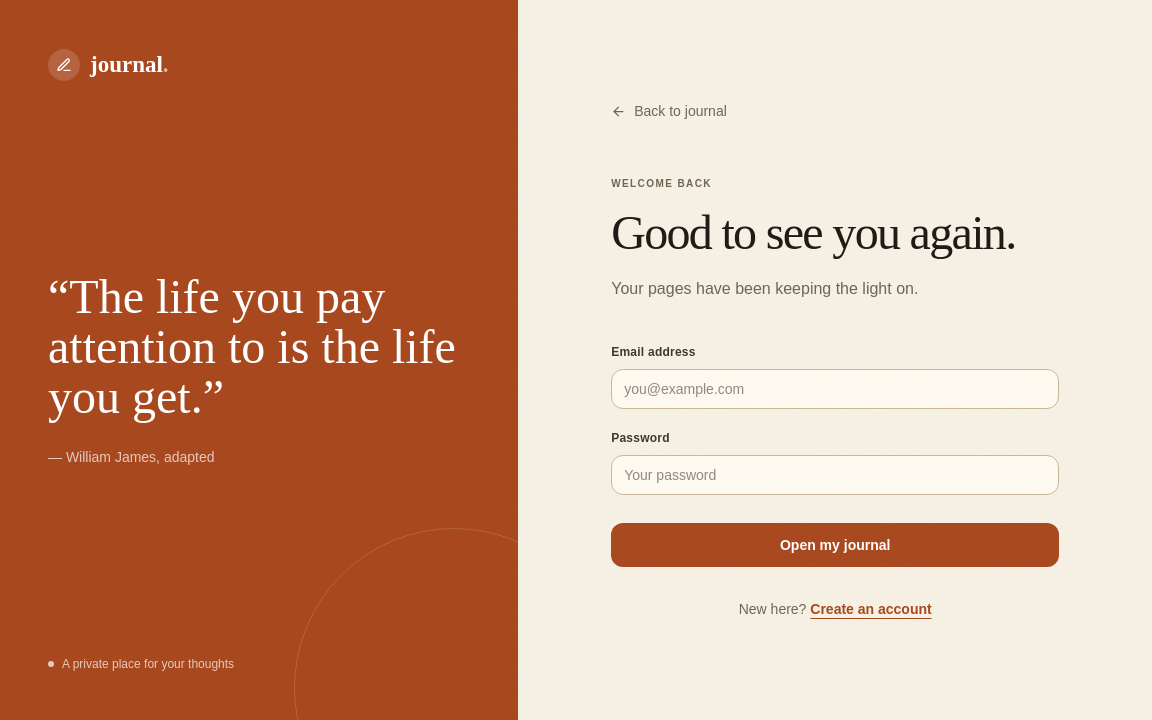
Auth + privacy/account flows › rejects bad credentials with the server message
Type "demo@journal.local" into the field with test id "login-email-input" at x=835, y=389, box x1=611 y1=369 x2=1059 y2=409
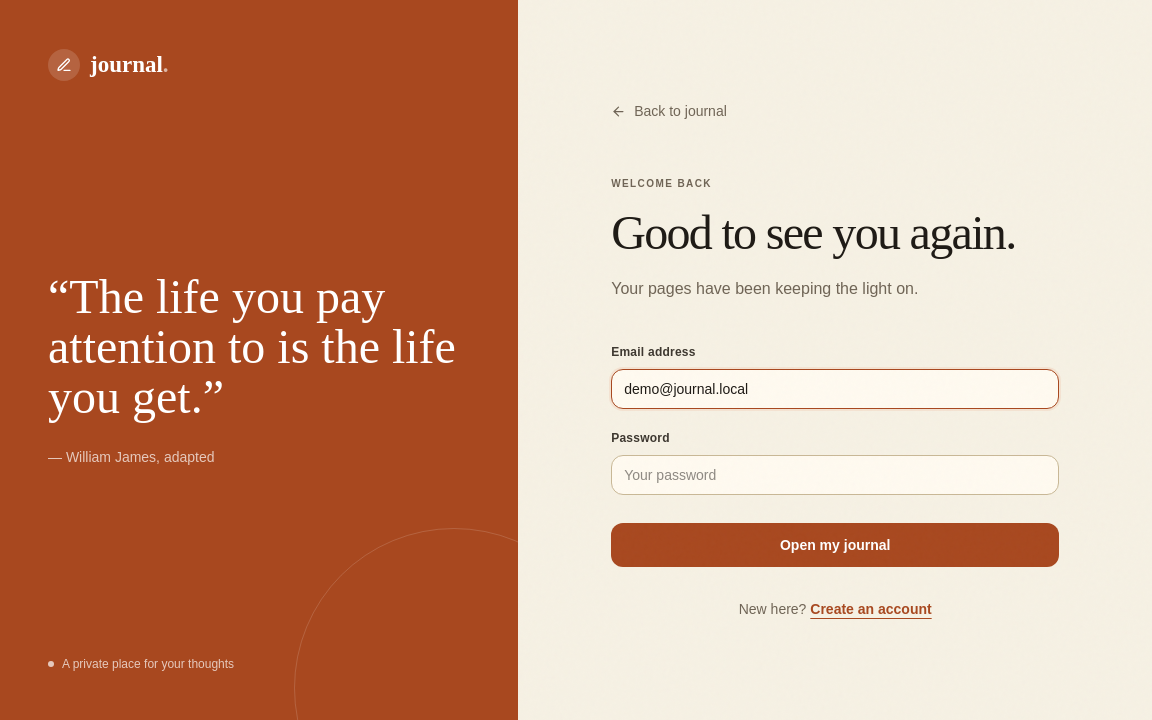
Type "wrong" into the password field with test id "login-password-input" at x=835, y=475, box x1=611 y1=455 x2=1059 y2=495
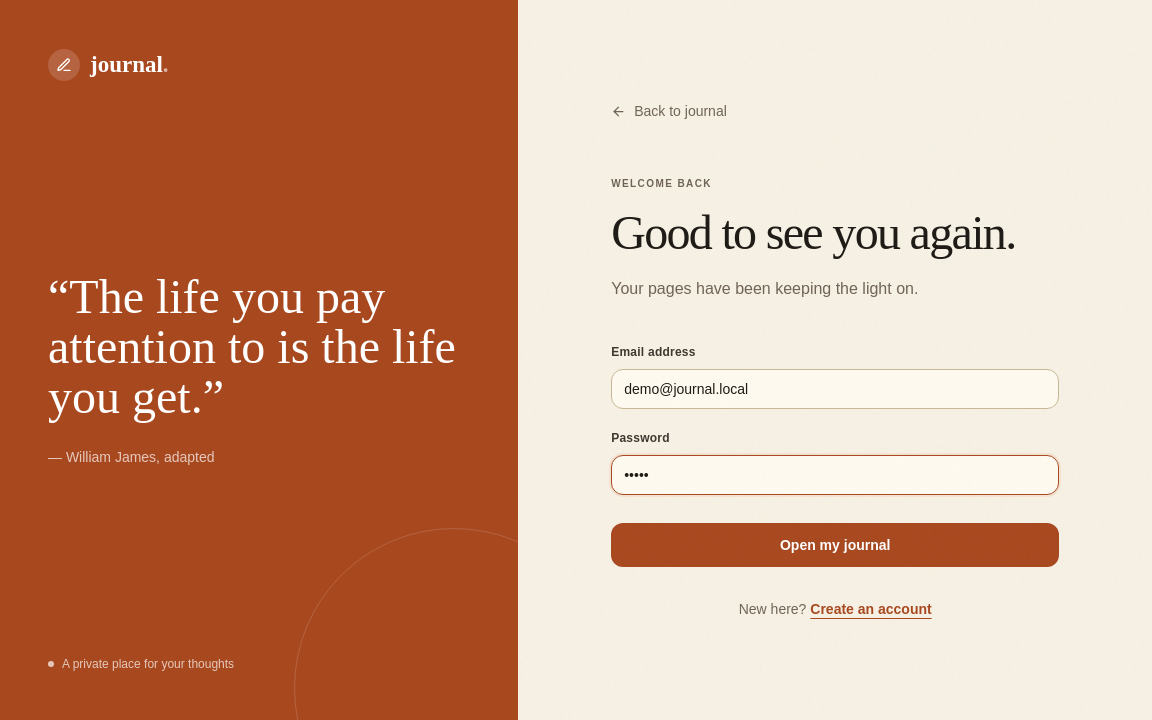
Click the button with test id "login-submit-button" at x=835, y=545, box x1=611 y1=523 x2=1059 y2=567
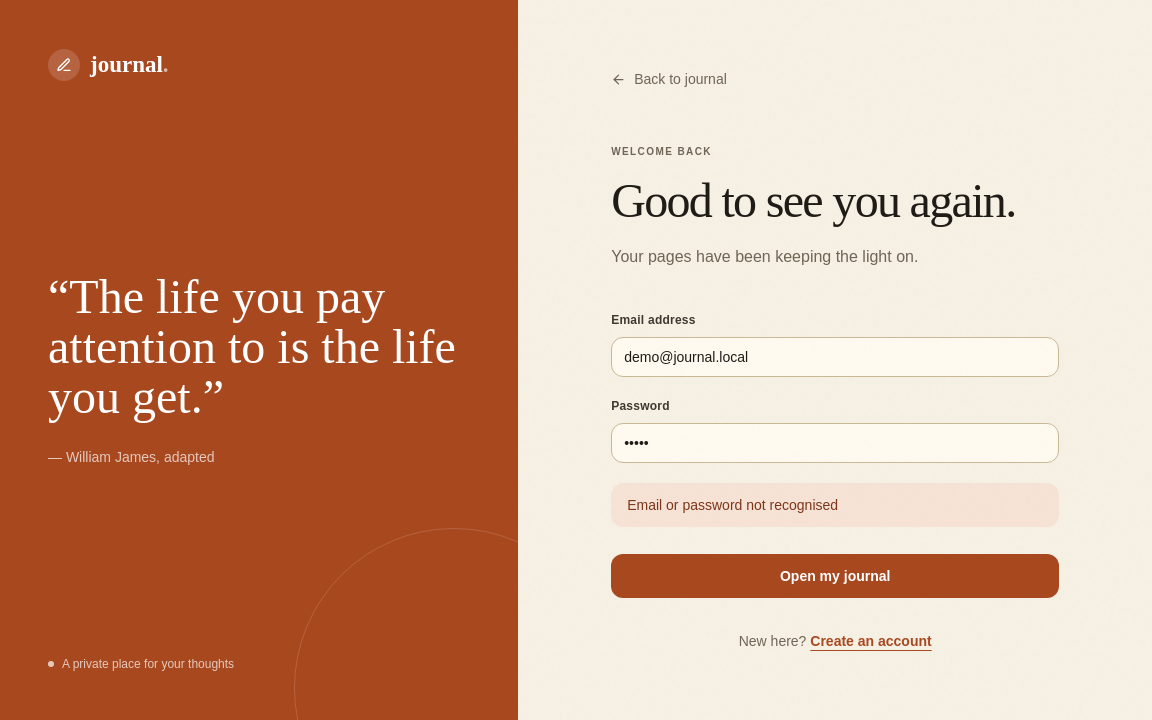
Now the message with test id "auth-error-message" shows "not recognised", box x1=627 y1=497 x2=838 y2=513
